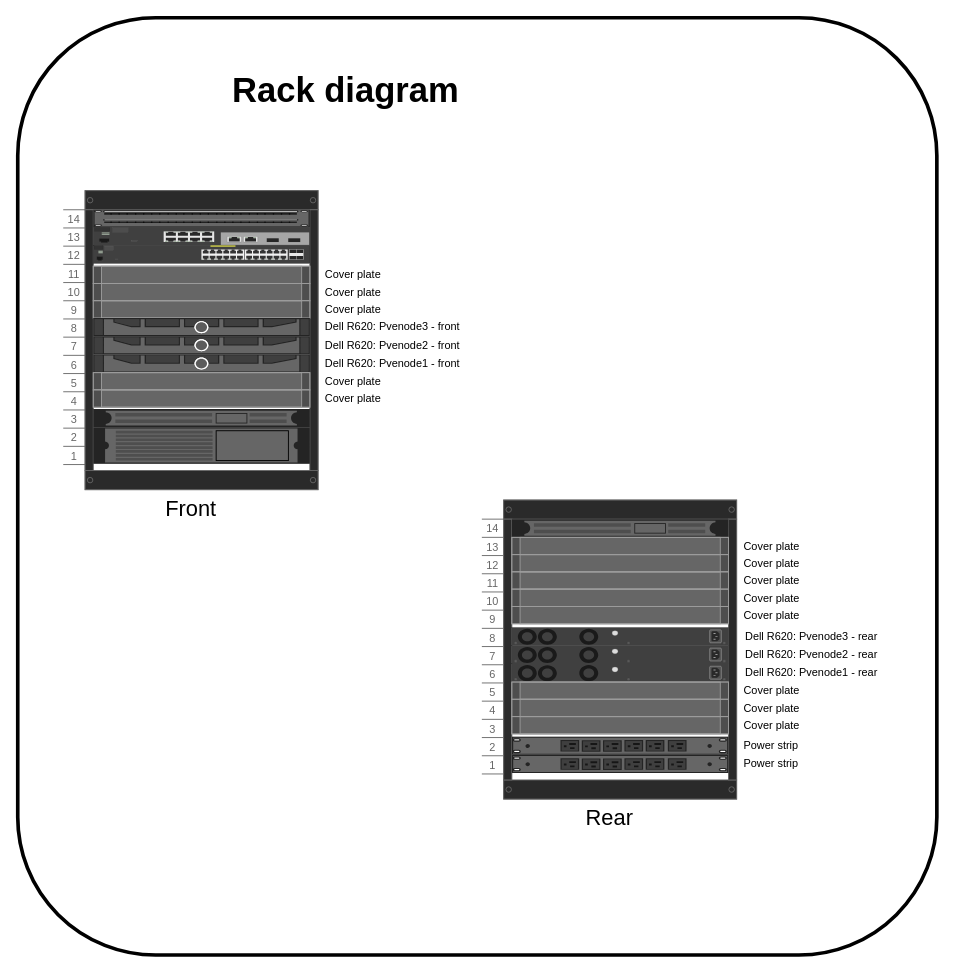
Some shapes in this 954 by 972 pixel diagram are drawn without their labels. The shapes that lost their labels are listed below. From the top down, each one's centre as x and y in pixels, then its label:
point (201, 218): Patch Panel
point (201, 235): Switch Netgear 4p + HP 800 G2 Mini PC
point (201, 253): Switch Intellinet 24p
point (201, 417): Fans: intake
point (201, 445): UPS
point (619, 527): Fans: outtake
